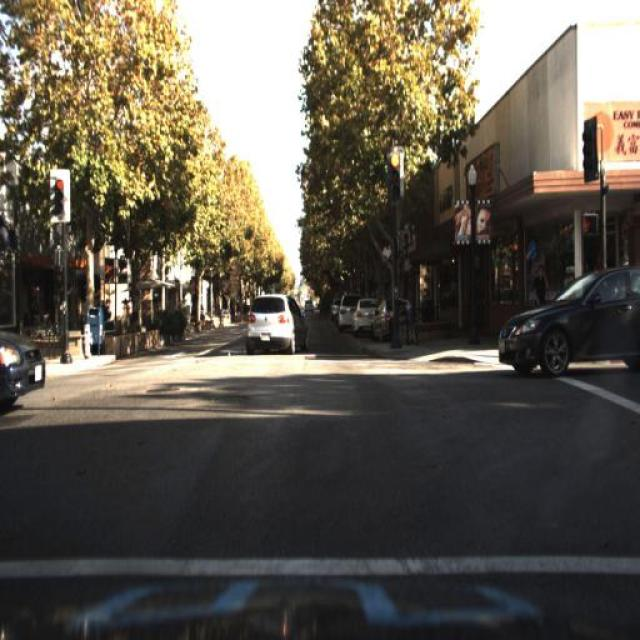car: (492, 254, 638, 385), (489, 268, 638, 372), (0, 282, 58, 430), (244, 287, 297, 367), (350, 296, 380, 340)
trafficLight: (534, 264, 550, 328), (534, 261, 546, 309)
trafficLight-RedLeft: (48, 169, 70, 222), (49, 170, 67, 219), (386, 148, 402, 203)
